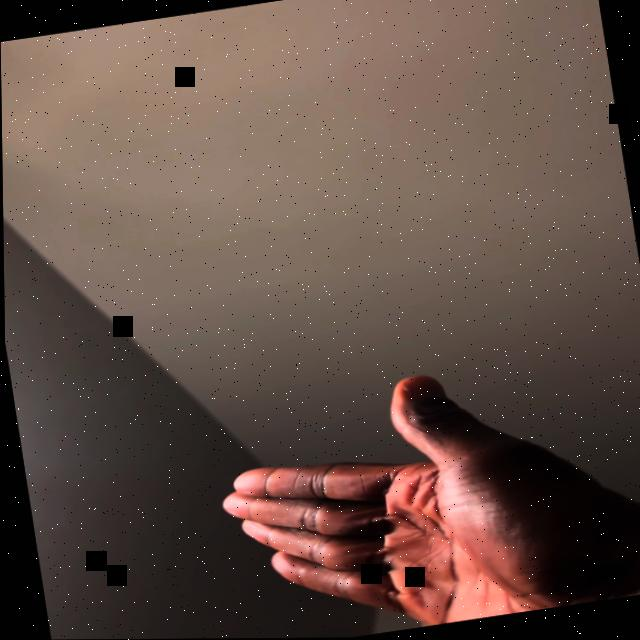Paper: (199, 344, 640, 639)
